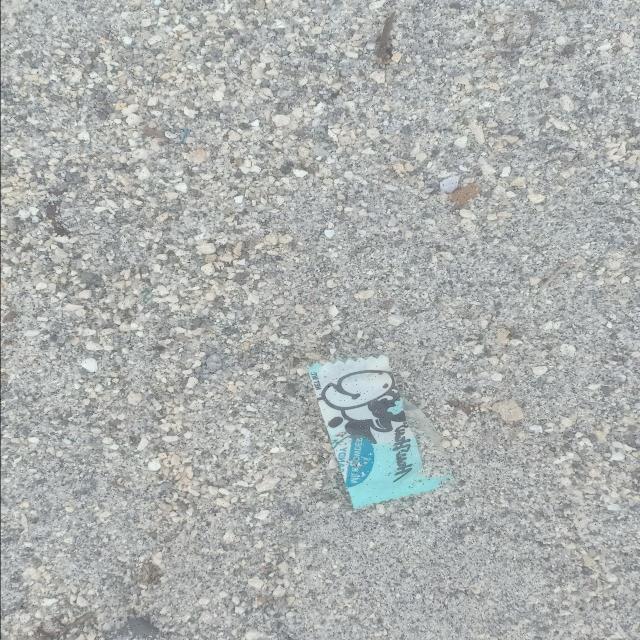plastic_waste: (306, 354, 456, 510)
